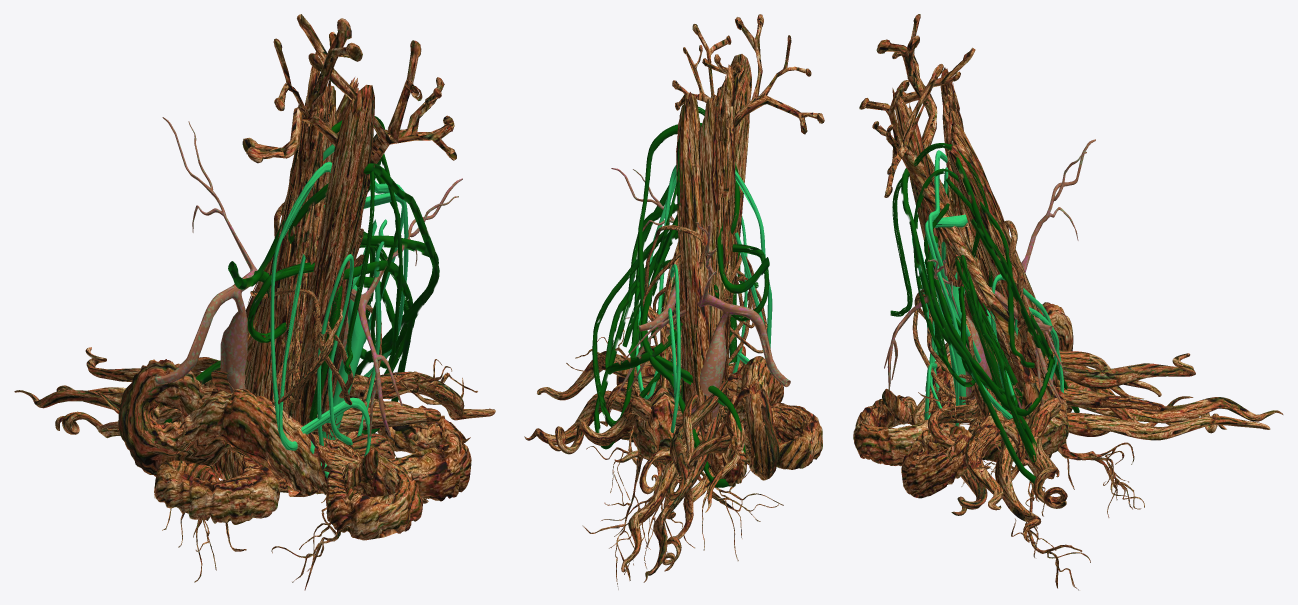
File: worldtreeonetrunk.glb
3 views of the same model, side by side, from view 1: azimuth 30°, elevation 25°; view 2: azimuth 150°, elevation 25°; view 3: azimuth 270°, elevation 25° (orthographic). The views are drawn at different scales.
Parts seen in each view (by area): view 1: jump_rope_246.019; view 2: jump_rope_246.019; view 3: jump_rope_246.019.
Boxes of the visible parts, box(x1,y1,x2,y2) form: jump_rope_246.019: box(14, 14, 495, 590); jump_rope_246.019: box(524, 14, 824, 589); jump_rope_246.019: box(853, 14, 1283, 590).
Bounding box in the file's own units: 1.35 × 2.46 × 1.8.
6 materials, 6 textured.
